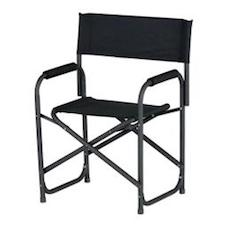chair: (19, 6, 210, 211)
